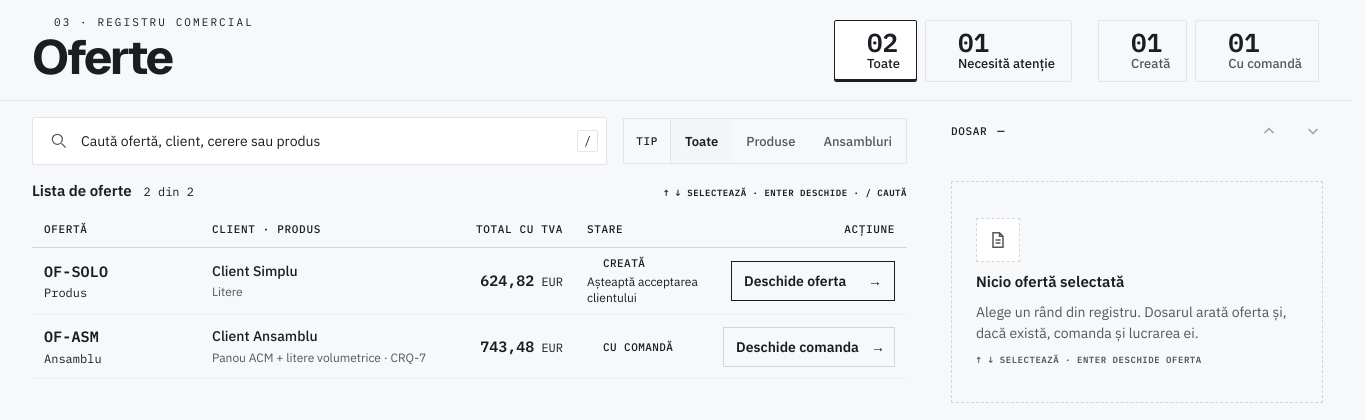
Test: QuotesPage › lists standalone and assembly offers together, with kind, value and combinable filters
The image size is (1366, 420).
Expected: the text "Panou ACM + litere volumetrice · CRQ-7" is shown, [212,350,435,366]
Expected: the text "743,48" is shown, [480,337,534,356]
Step 1. Click the button "Ansambluri" → click(858, 141), box [810,119,906,163]
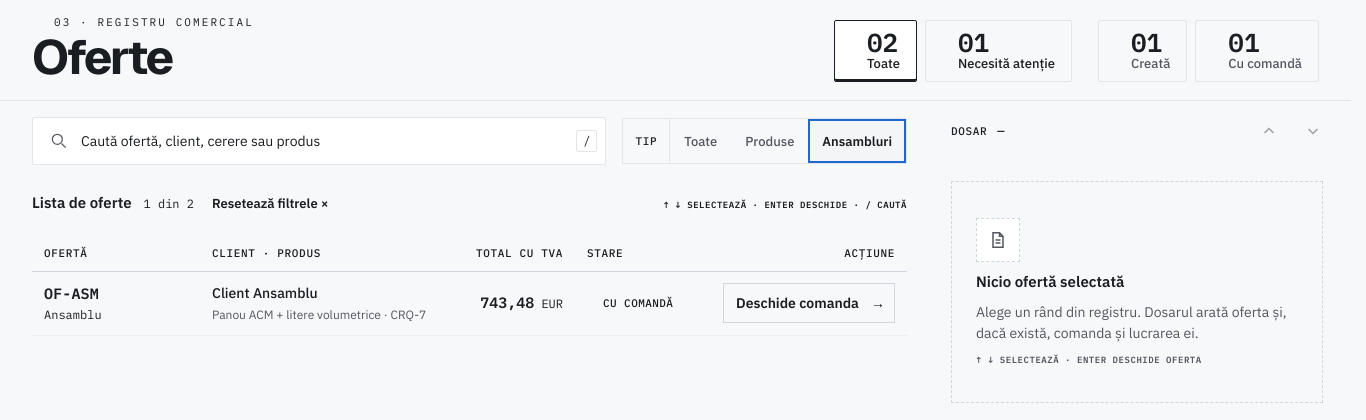
Expected: the link "OF-ASM" is shown, [44,284,99,303]
Expected: the link "OF-SOLO" is gone
Step 2. Click the button "01 Creată" → click(1143, 51), box [1098,20,1187,82]
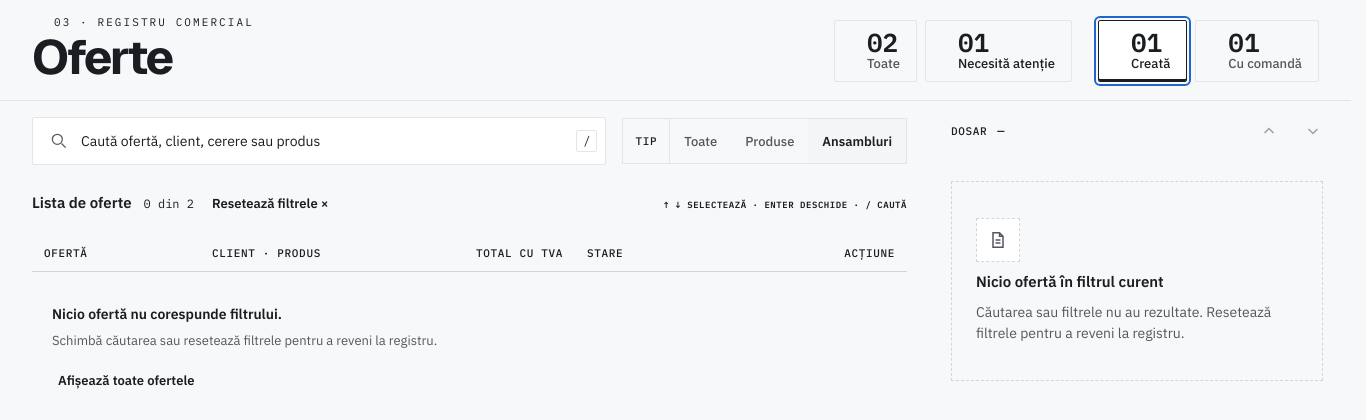
Expected: the text "Nicio ofertă nu corespunde filtrului." is shown, [52,304,282,324]
Expected: the text "Nicio ofertă în filtrul curent" is shown, [976,272,1164,292]
Step 3. Click the button "Resetează filtrele ×" → click(270, 203), box [206,181,335,225]
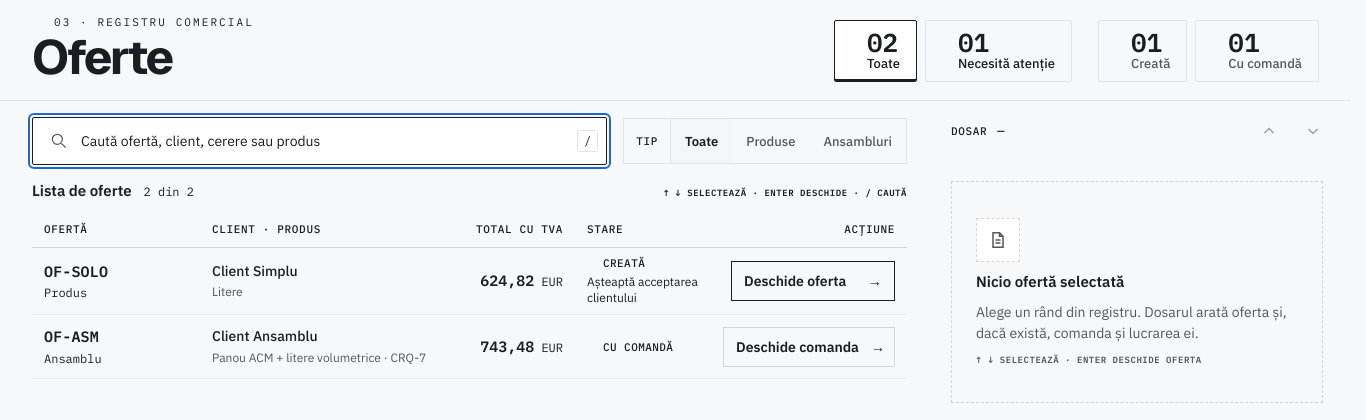
Expected: the link "OF-SOLO" is shown, [44,262,108,281]
Step 4. Type "CRQ-7" into the search field labelled "Caută" → (323, 141), box [81,118,565,164]
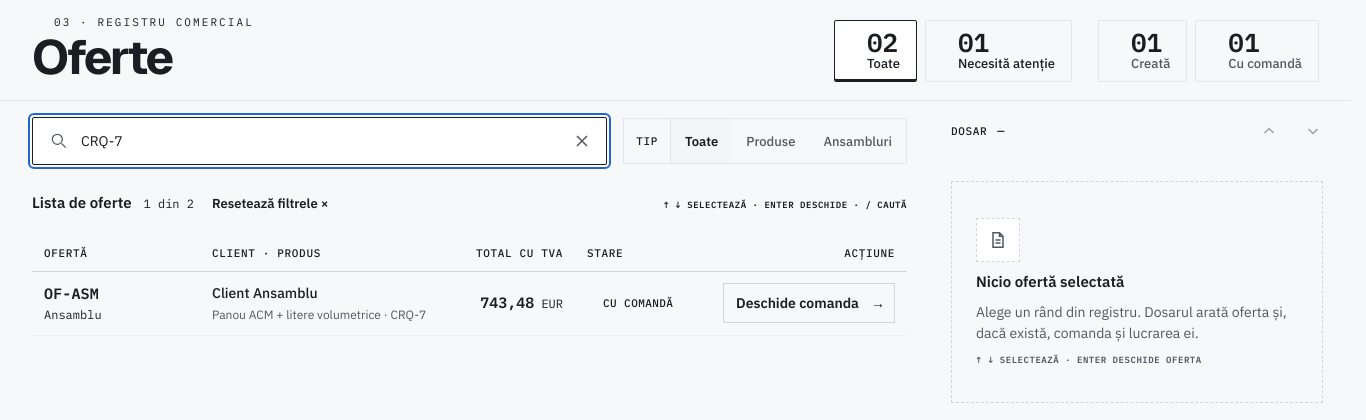
Expected: the link "OF-ASM" is shown, [44,284,99,303]
Expected: the link "OF-SOLO" is gone
